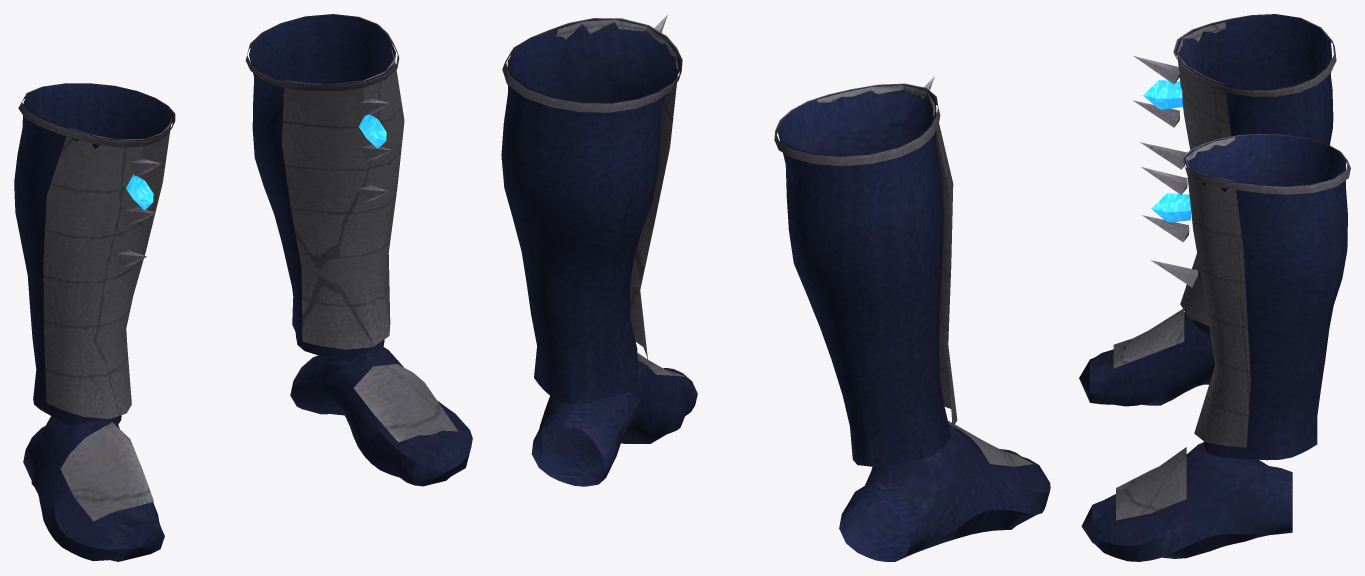
The model's file is Botas_de_Energia_nivel100.glb.
The picture shows the model from 3 angles, left to right: view 1: azimuth 30°, elevation 25°; view 2: azimuth 150°, elevation 25°; view 3: azimuth 270°, elevation 25°; orthographic projection. The views are drawn at different scales.
Visible parts, largest first — view 1: botas_de_energia_nivel100; view 2: botas_de_energia_nivel100; view 3: botas_de_energia_nivel100.
Boxes of the visible parts, bbox=[...] form: botas_de_energia_nivel100: bbox=[14, 14, 472, 561]; botas_de_energia_nivel100: bbox=[501, 14, 1050, 561]; botas_de_energia_nivel100: bbox=[1079, 14, 1350, 561].
Bounding box in the file's own units: 0.5105 × 0.4505 × 0.2972.
1 material, 1 textured.
